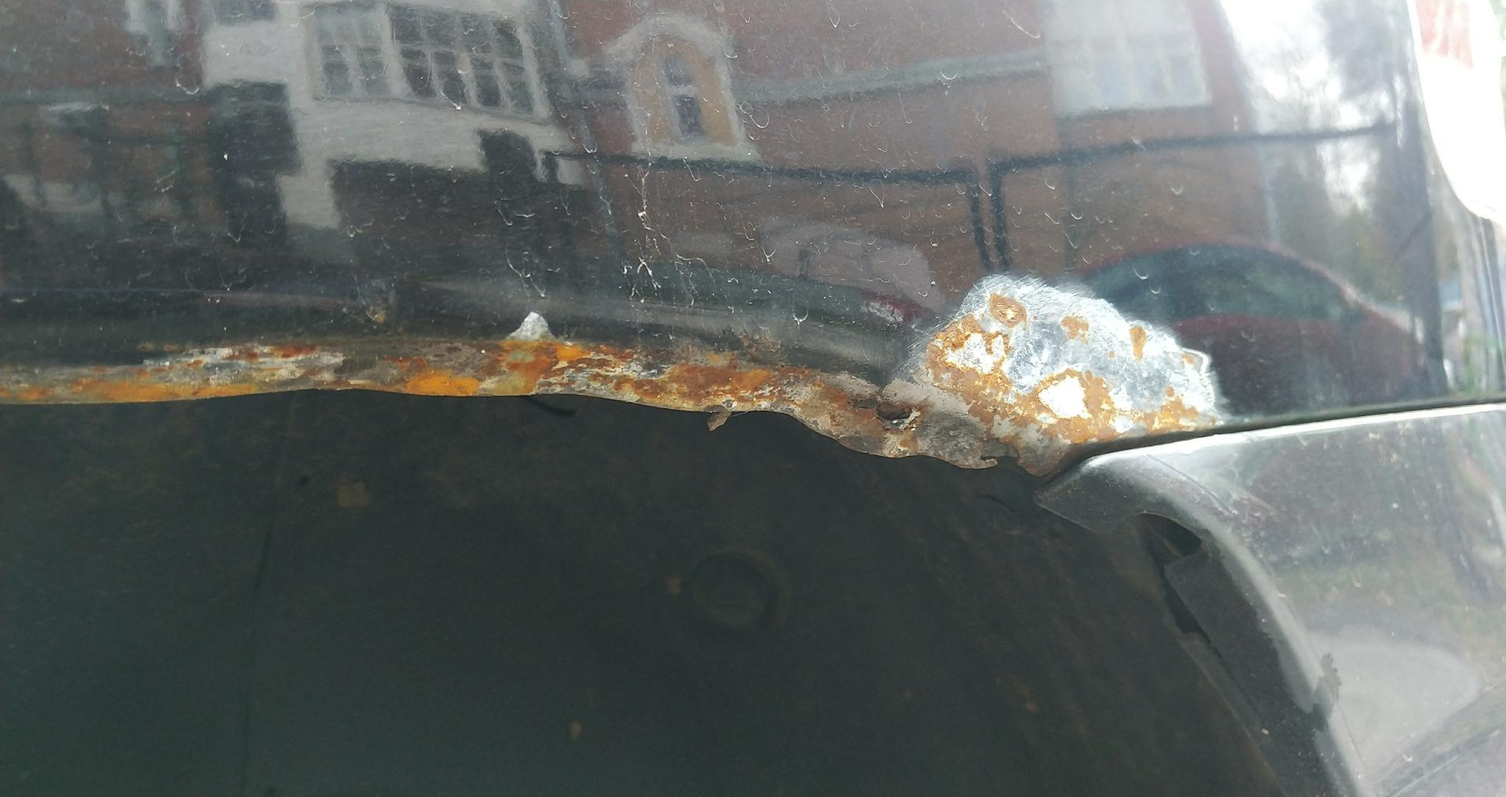corrosion: (1, 217, 1221, 495)
